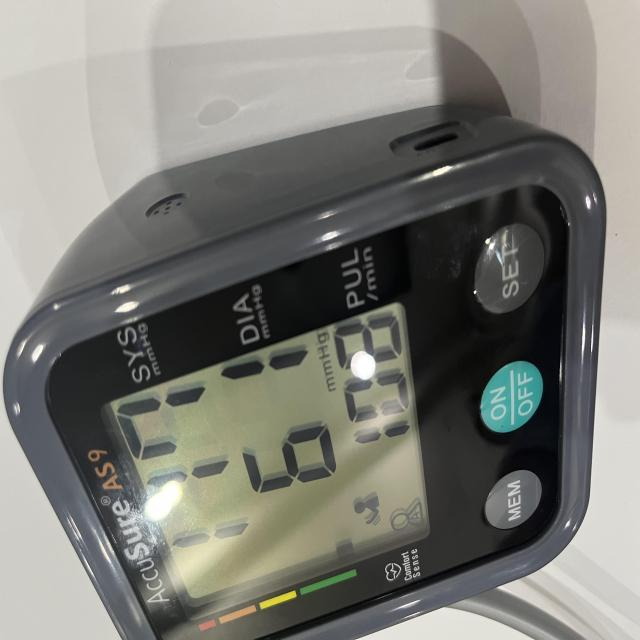bp: (1, 0, 609, 640)
